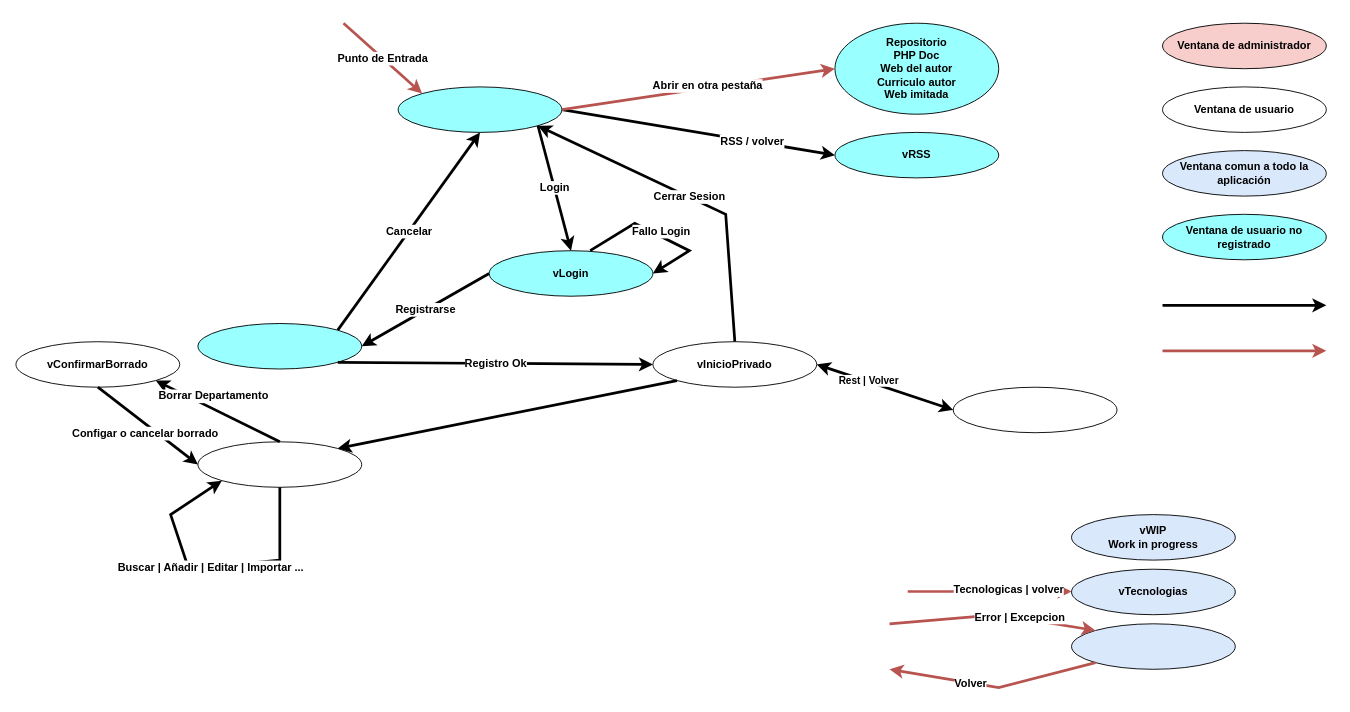
Some shapes in this 1350 by 712 pixel diagram are drawn without their labels. The centre of each missing label's shape, as x and y in pixels:
"vError" goes at pixel 1153 646.
"vInicioPublico" goes at pixel 479 109.
"vMtoDepartamento" goes at pixel 279 464.
"vRegistro" goes at pixel 279 346.
"vREST" goes at pixel 1034 409.
